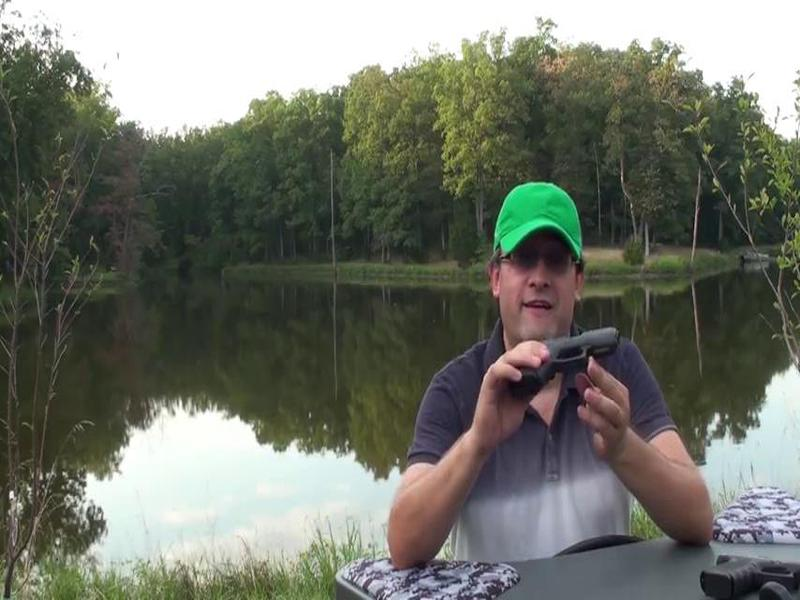Pistola: (515, 334, 620, 391)
